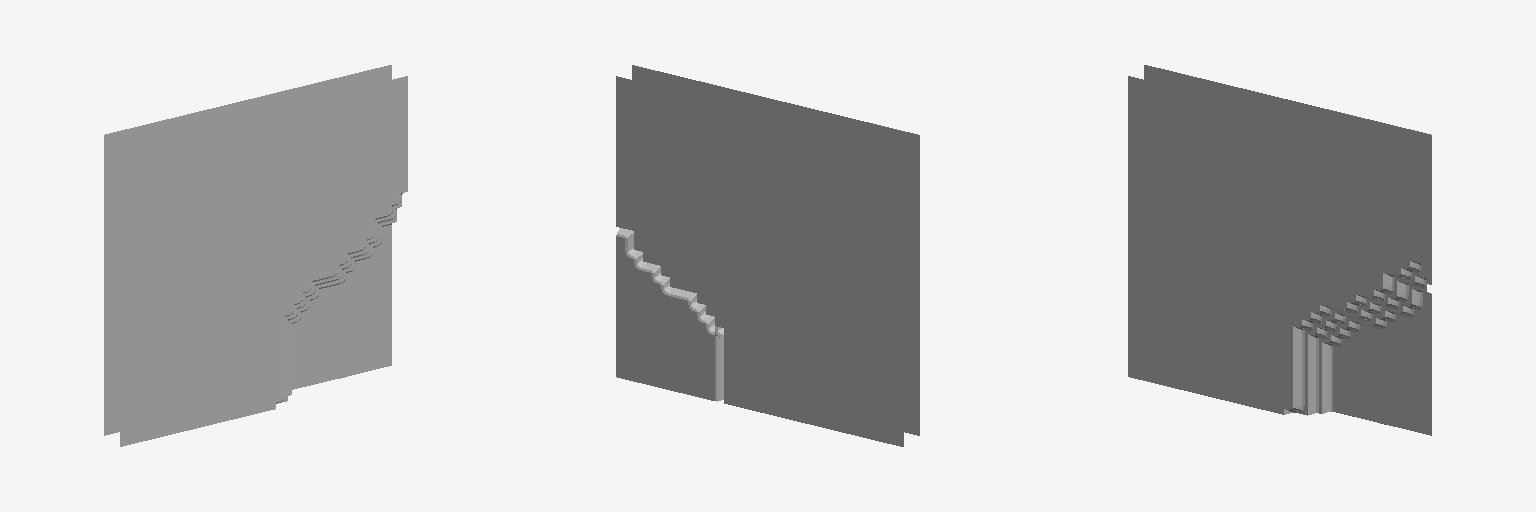
Rendered from testa_00_00.obj.
The picture shows the model from 3 angles: view 1: azimuth 30°, elevation 25°; view 2: azimuth 150°, elevation 25°; view 3: azimuth 330°, elevation 25°; orthographic projection.
Visible parts, largest first — view 1: map; view 2: map; view 3: map.
Boxes of the visible parts, x1=… form: map: x1=104, y1=65, x2=407, y2=446; map: x1=616, y1=65, x2=919, y2=446; map: x1=1128, y1=65, x2=1431, y2=435.
Bounding box in the file's own units: 32 × 32 × 3.06.